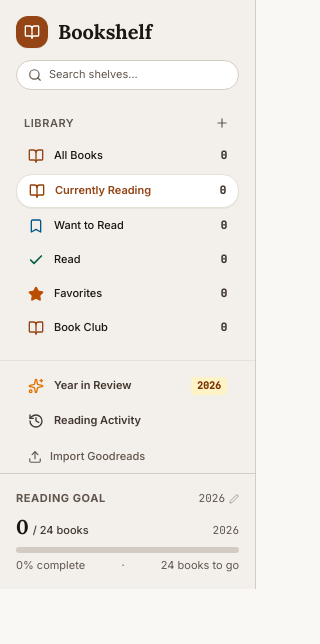
Test case: Sidebar custom shelf management › creates a custom shelf and persists it to storage
Step 1. Click the button named "Add custom shelf" → point(222, 123), box [213, 114, 231, 132]
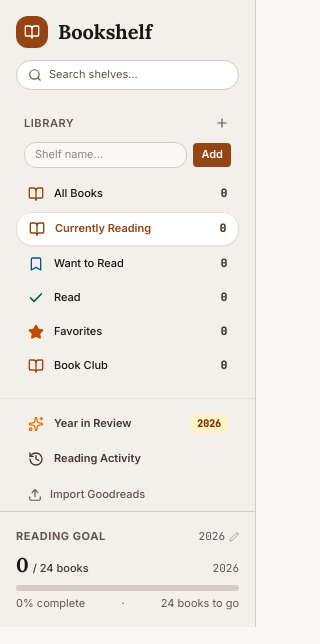
Step 2. Type "Sci-Fi Classics" into the field named "New shelf name" → point(106, 155), box [24, 142, 187, 168]
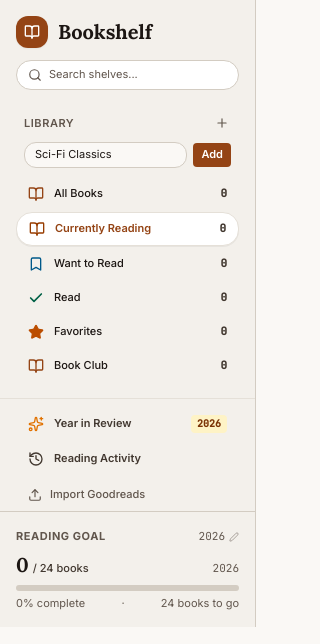
Step 3. Click the button "Add" → point(212, 155), box [193, 143, 231, 167]
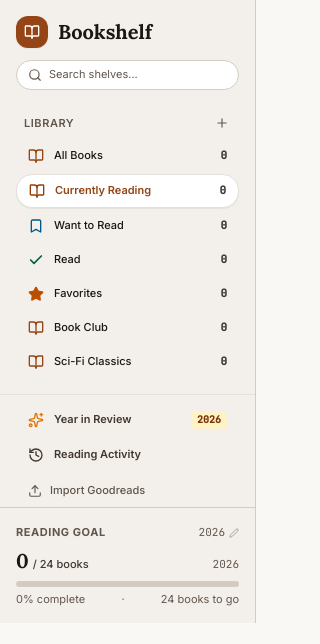
expect the text "Sci-Fi Classics" is shown: met, box [54, 354, 132, 370]
